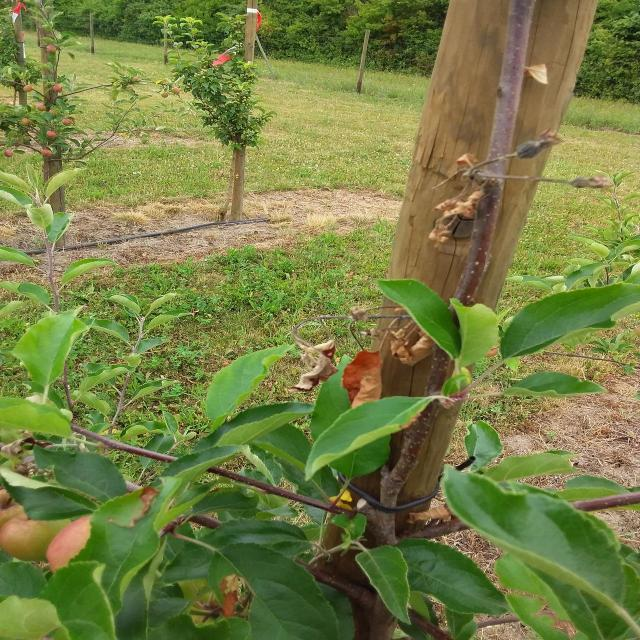-FireBlight-: (293, 323, 350, 395), (392, 305, 436, 366), (353, 327, 379, 415)
